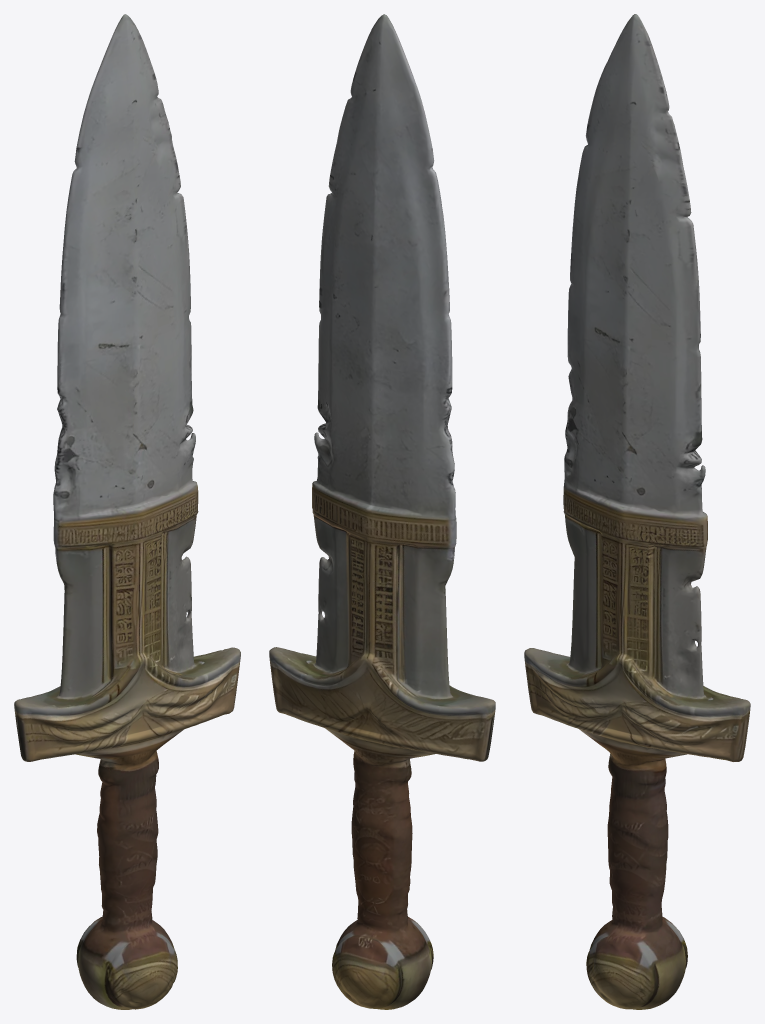
File: gladius.glb
The picture shows the model from 3 angles, left to right: view 1: azimuth 30°, elevation 25°; view 2: azimuth 150°, elevation 25°; view 3: azimuth 330°, elevation 25°; orthographic projection.
Parts seen in each view (by area): view 1: tripo_node_e9262762-7622-42d6-972a-14d52bba1e16; view 2: tripo_node_e9262762-7622-42d6-972a-14d52bba1e16; view 3: tripo_node_e9262762-7622-42d6-972a-14d52bba1e16.
Part boxes in pixels (x1,y1,x2,y2): tripo_node_e9262762-7622-42d6-972a-14d52bba1e16: (14, 14, 240, 1009); tripo_node_e9262762-7622-42d6-972a-14d52bba1e16: (269, 14, 495, 1009); tripo_node_e9262762-7622-42d6-972a-14d52bba1e16: (524, 14, 750, 1009).
Bounding box in the file's own units: 0.2364 × 0.9996 × 0.0988.
Materials: 1 (1 with a texture image).
